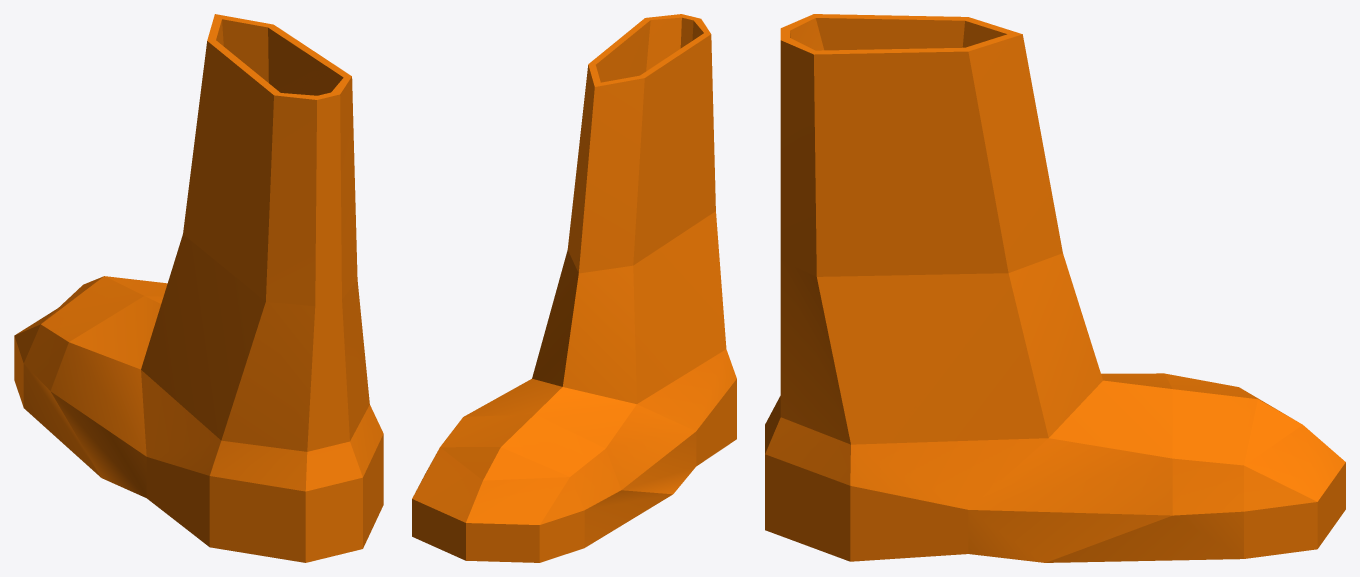
File: prop_43.FBX
3 renders of one model, left to right at view 1: azimuth 30°, elevation 25°; view 2: azimuth 150°, elevation 25°; view 3: azimuth 270°, elevation 25°, orthographic. The views are drawn at different scales.
Parts seen in each view (by area): view 1: prop_43; view 2: prop_43; view 3: prop_43.
Part boxes in pixels (box(x1,y1,x2,y2)): prop_43: box(14, 14, 383, 562); prop_43: box(412, 14, 736, 562); prop_43: box(765, 14, 1345, 562).
Size of the model in its own units: 6.17 by 12.96 by 14.16.
